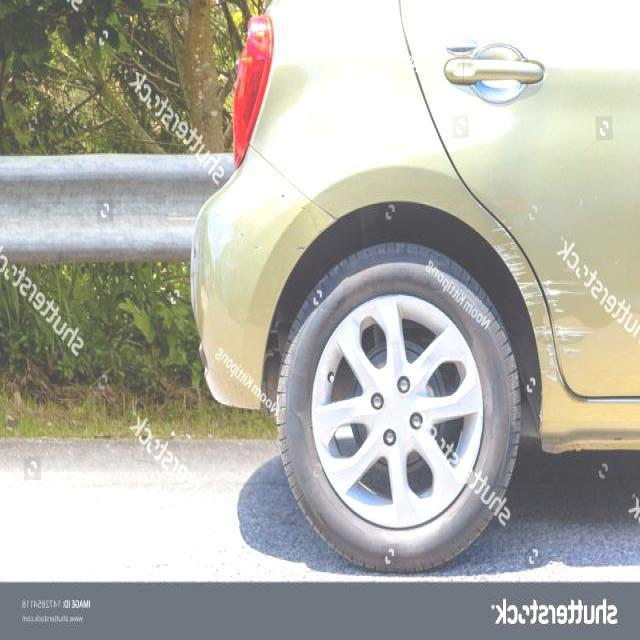minor: (495, 240, 562, 383), (543, 269, 579, 347)
